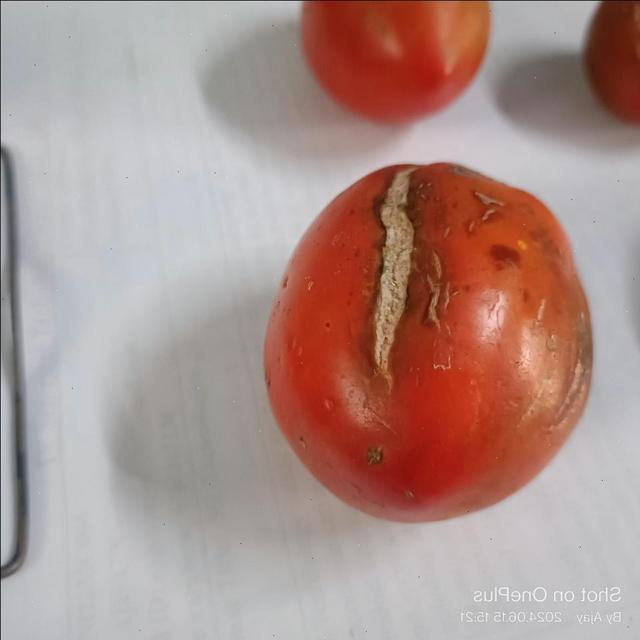Cracking Fruit: (153, 32, 400, 168)
